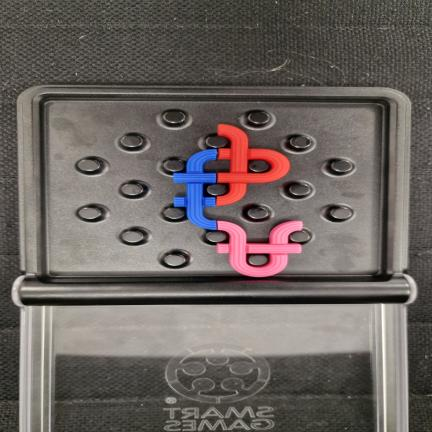C_DarkBlue: (174, 150, 216, 229)
E_Red: (216, 124, 289, 205)
G_Pink: (217, 221, 302, 277)
board: (17, 85, 414, 305)
hinge: (9, 276, 420, 306)
pin: (289, 228, 312, 244), (163, 110, 185, 125), (77, 159, 100, 173), (78, 207, 101, 221), (121, 183, 143, 197), (122, 230, 144, 244), (206, 135, 228, 148), (121, 135, 143, 148), (331, 160, 353, 173), (330, 207, 352, 220), (163, 254, 186, 266), (248, 112, 269, 125), (163, 159, 184, 172), (289, 183, 310, 196), (247, 207, 268, 220), (164, 207, 184, 220), (290, 136, 311, 148), (249, 160, 270, 172), (206, 231, 227, 243), (247, 254, 268, 266), (207, 184, 227, 196)
